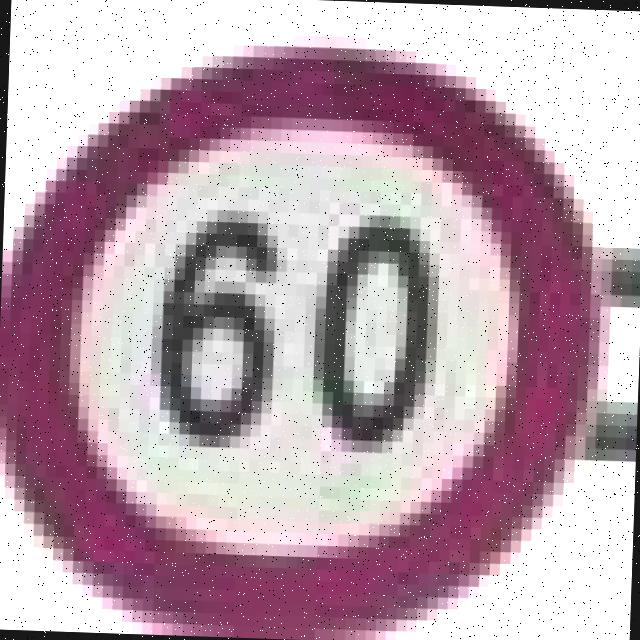Ograniczenie predkosci do 60: (0, 24, 608, 638)
